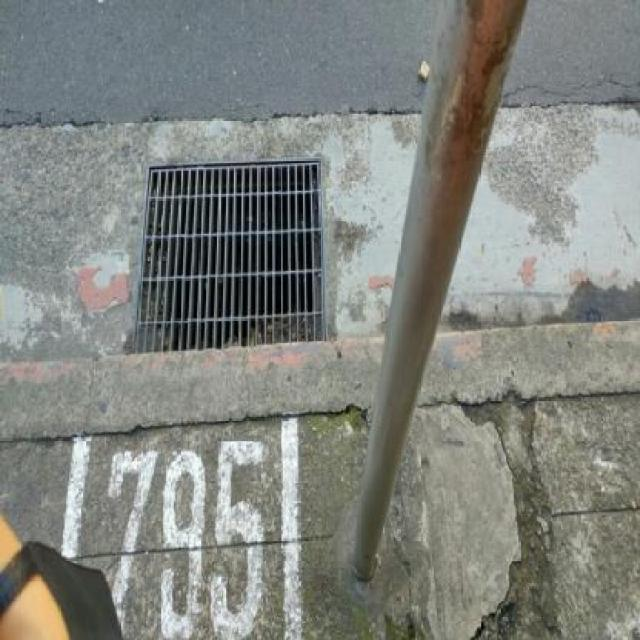Drain Hole: (124, 134, 358, 380)
